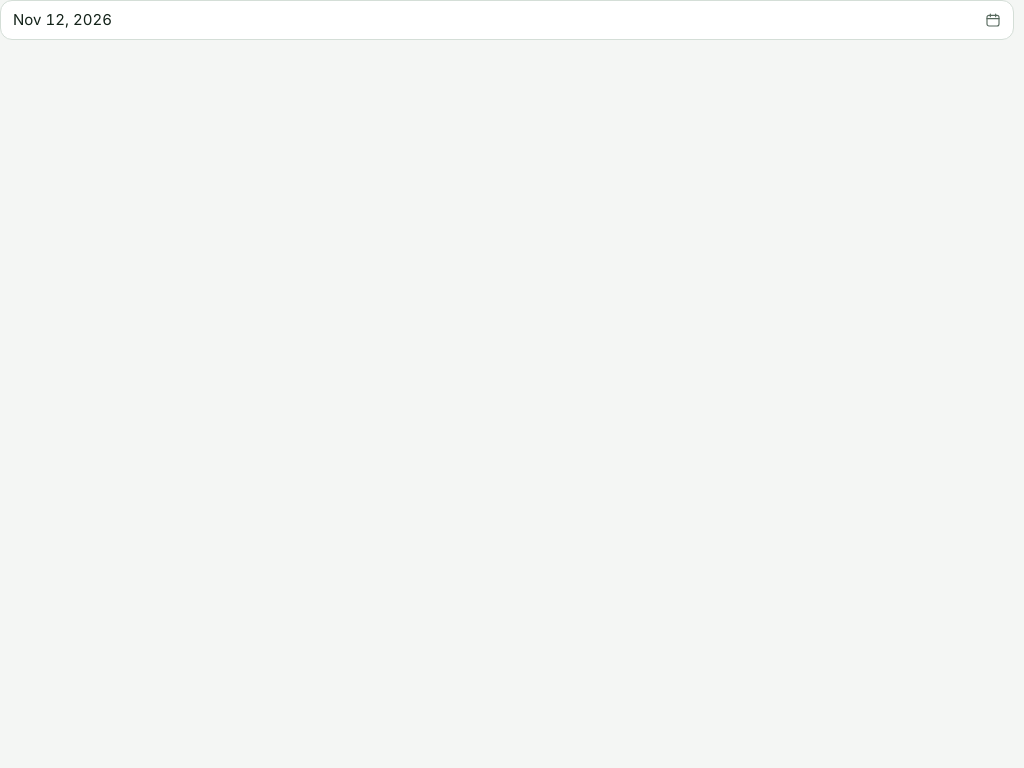
Scenario: NuqtaDatePicker › opens a calendar dialog on click
This screenshot has width=1024, height=768.
Click the dropdown named "Pick date" at (62, 20), box x1=0 y1=0 x2=1014 y2=40
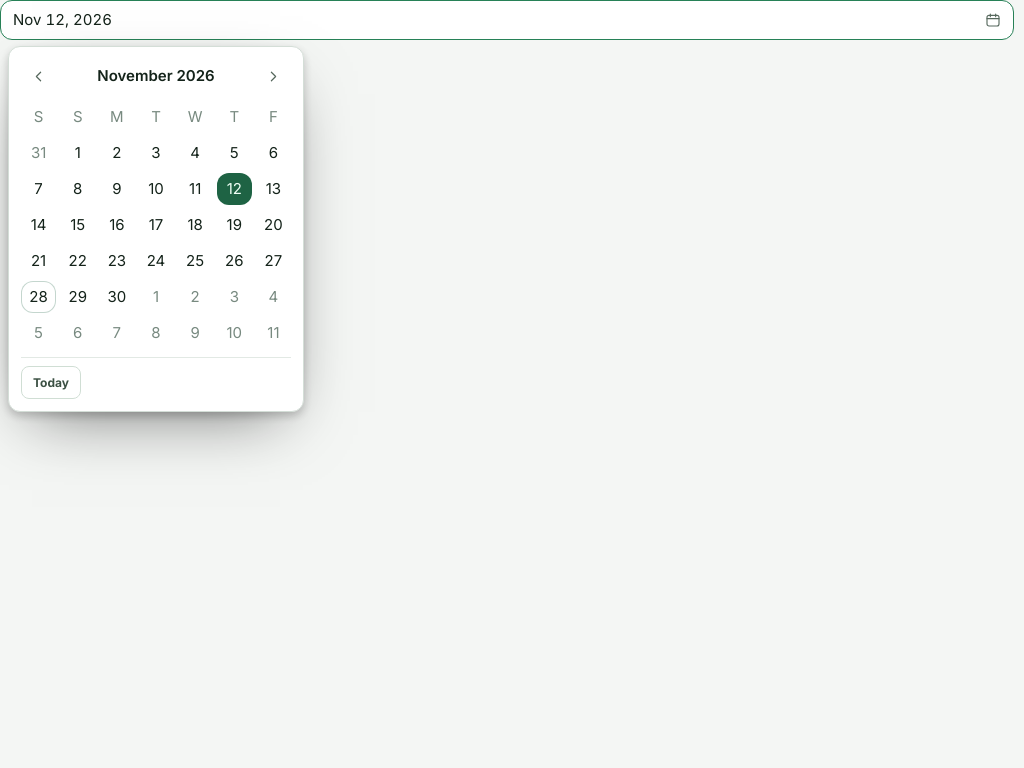
Expected: the dialog is shown, x1=8 y1=46 x2=304 y2=412
